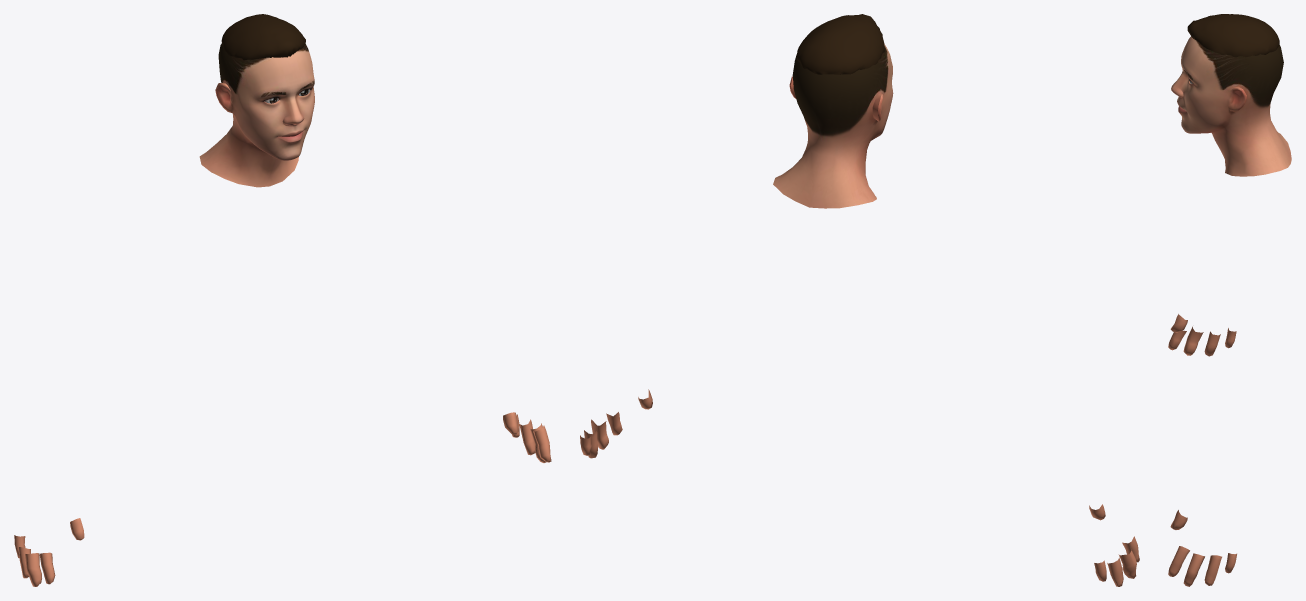
Rendered from headbody1.glb.
3 views of the same model, side by side, from view 1: azimuth 30°, elevation 25°; view 2: azimuth 150°, elevation 25°; view 3: azimuth 270°, elevation 25° (orthographic). The views are drawn at different scales.
Parts seen in each view (by area): view 1: Wolf3D_Head, Wolf3D_Hair, Wolf3D_Body; view 2: Wolf3D_Head, Wolf3D_Hair, Wolf3D_Body; view 3: Wolf3D_Head, Wolf3D_Hair, Wolf3D_Body.
Boxes of the visible parts, x1,y1,x2,y2 form: Wolf3D_Head: (199, 43, 314, 187); Wolf3D_Hair: (221, 14, 305, 60); Wolf3D_Body: (14, 412, 551, 586); Wolf3D_Head: (773, 44, 893, 208); Wolf3D_Hair: (796, 14, 884, 74); Wolf3D_Body: (580, 389, 1139, 586); Wolf3D_Head: (1171, 36, 1291, 176); Wolf3D_Hair: (1187, 14, 1279, 57); Wolf3D_Body: (1168, 314, 1236, 586).
Size of the model in its own units: 1.06 by 0.9511 by 0.2352.
Materials: 5 (5 with a texture image).
